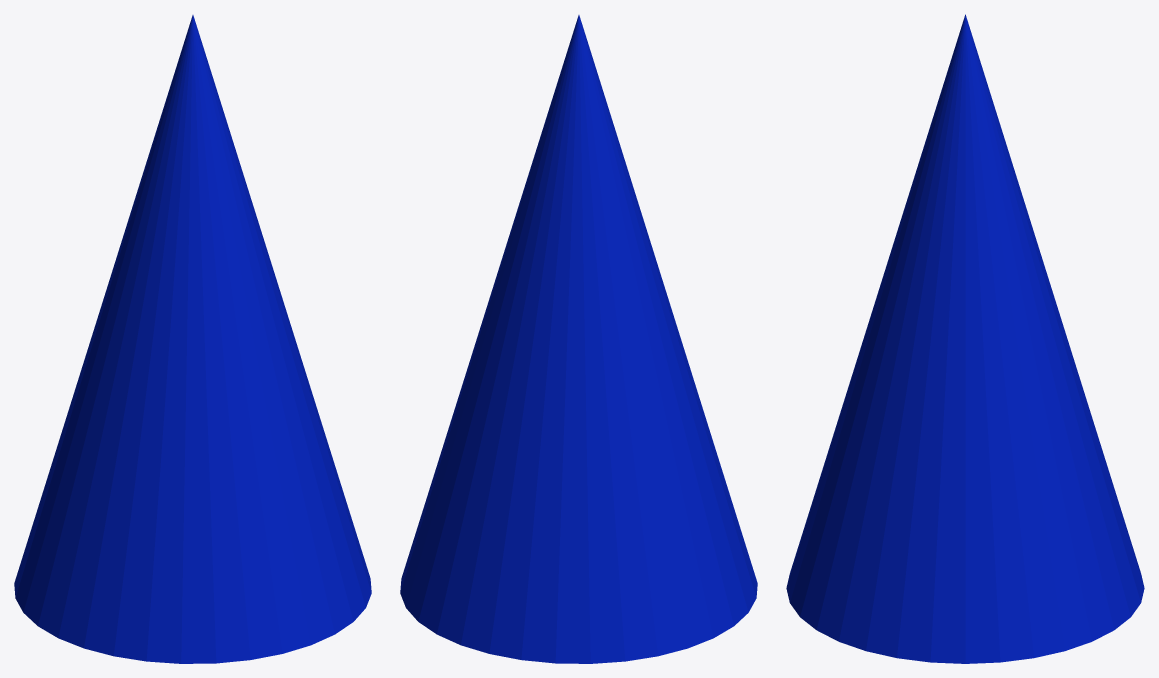
The model's file is Spike.fbx.
3 views of the same model, side by side, from view 1: azimuth 30°, elevation 25°; view 2: azimuth 150°, elevation 25°; view 3: azimuth 270°, elevation 25° (orthographic).
Visible parts, largest first — view 1: Cone; view 2: Cone; view 3: Cone.
Part boxes in pixels (x1,y1,x2,y2): Cone: [14, 15, 371, 663]; Cone: [400, 15, 757, 663]; Cone: [786, 14, 1144, 663].
Size of the model in its own units: 200 by 354 by 200.
